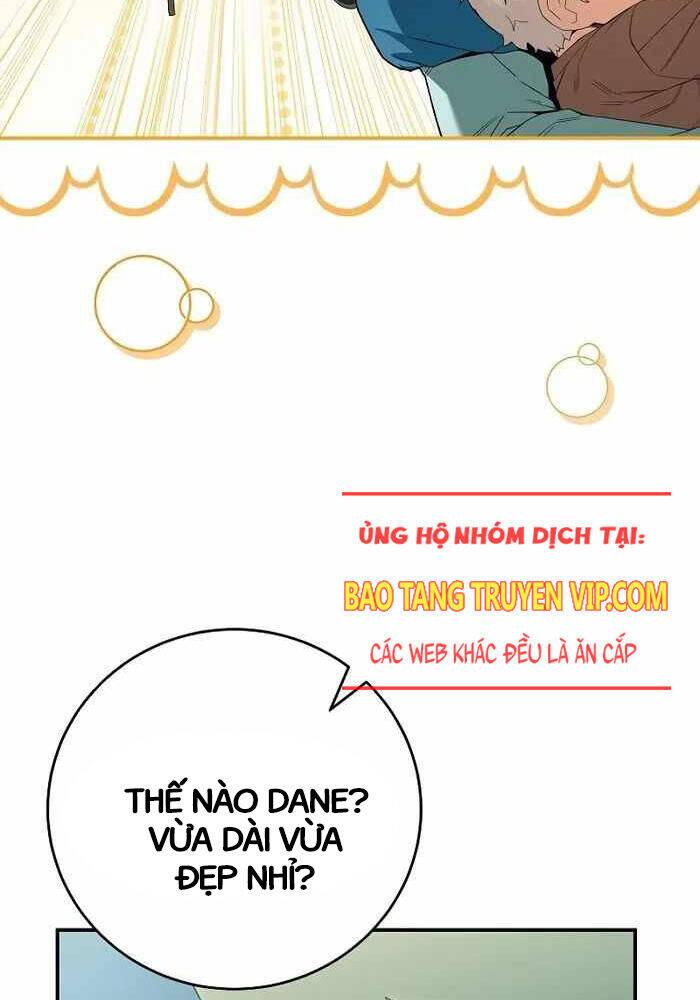quangcao: (340, 491, 673, 693)
